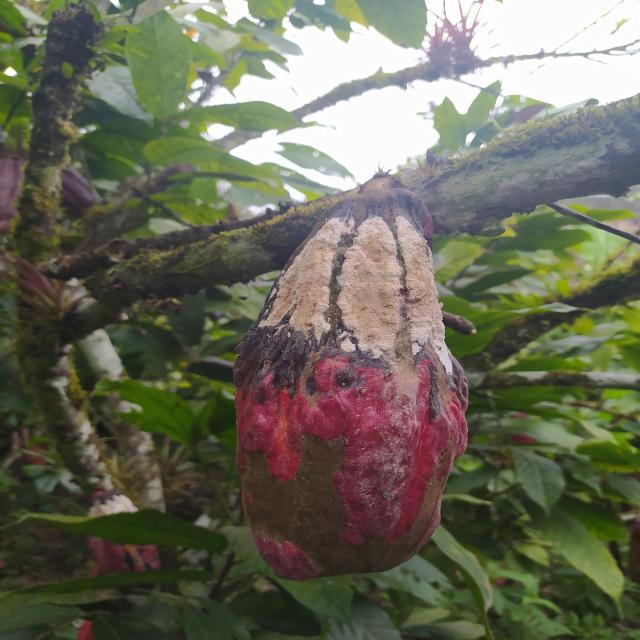Monilia: (232, 189, 470, 581)
